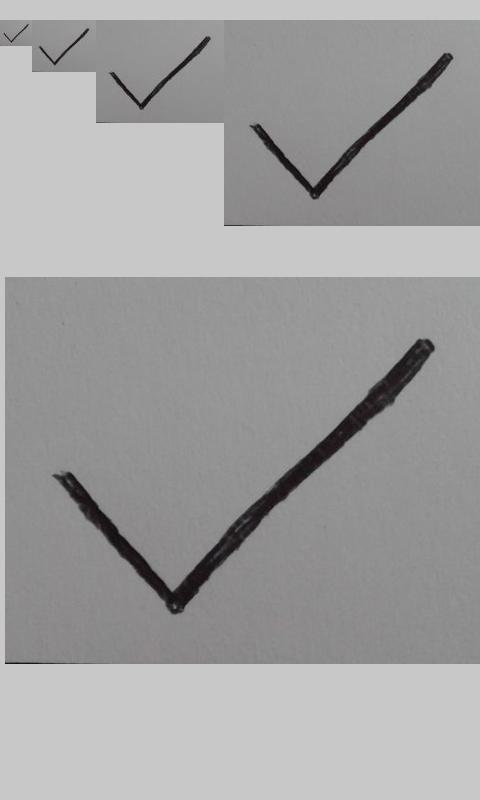check_box: (62, 340, 436, 613), (251, 52, 453, 200), (110, 36, 211, 110), (39, 28, 89, 66), (3, 24, 29, 43)
